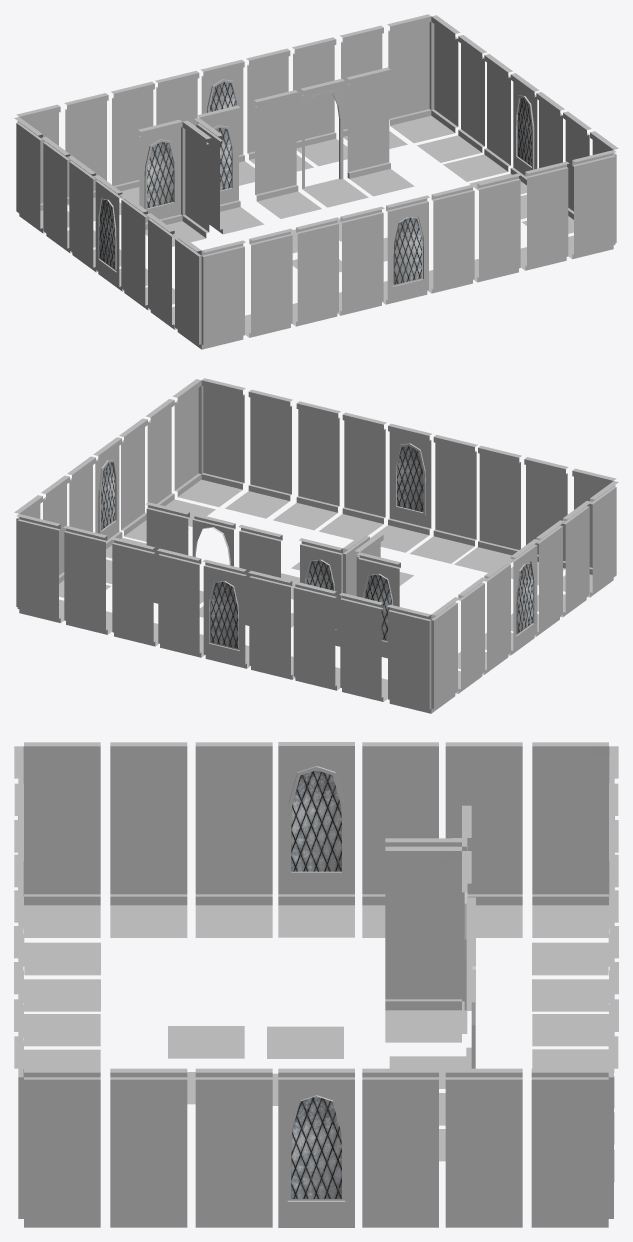
File: Tile.fbx
The picture shows the model from 3 angles, top to bottom: view 1: azimuth 30°, elevation 25°; view 2: azimuth 150°, elevation 25°; view 3: azimuth 270°, elevation 25°; orthographic projection. The views are drawn at different scales.
Visible parts, largest first — view 1: Wall Tile Coner 1, Wall Tile Coner 003, Between_Room_ Window _Tile_Left, Wall Tile Coner 004, Door_tile_003, Door_tile_1, Wall Tile 038, Wall Tile 039, Wall Tile 037, Wall Tile 040, Wall Tile 041, Wall Tile 042 (+30 smaller); view 2: Wall Tile Coner 004, Wall Tile Coner 002, Wall Tile Coner 1, Window Tile 006, Wall Tile 037, Wall Tile 039, Wall Tile 038, Wall Tile 040, Wall Tile 042, Window Tile 004, Wall Tile 033, Wall Tile 029 (+29 smaller); view 3: Between_Room_ Window _Tile_Left001, Wall Tile Coner 1, Wall Tile Coner 004, Wall Tile Coner 002, Wall Tile Coner 003, Wall Tile 043, Wall Tile 044, Window Tile 005, Wall Tile 6, Wall Tile 036, Wall Tile 045, Window Tile 2 (+24 smaller).
Part boxes in pixels (x1=…): Wall Tile Coner 1: x1=387, y1=14, x2=460, y2=132; Wall Tile Coner 003: x1=173, y1=233, x2=245, y2=349; Between_Room_ Window _Tile_Left: x1=138, y1=119, x2=210, y2=237; Wall Tile Coner 004: x1=572, y1=131, x2=618, y2=259; Door_tile_003: x1=346, y1=67, x2=390, y2=178; Door_tile_1: x1=254, y1=90, x2=298, y2=201; Wall Tile 038: x1=431, y1=184, x2=475, y2=293; Wall Tile 039: x1=477, y1=173, x2=521, y2=282; Wall Tile 037: x1=525, y1=161, x2=569, y2=270; Wall Tile 040: x1=340, y1=206, x2=384, y2=315; Wall Tile 041: x1=249, y1=228, x2=293, y2=337; Wall Tile 042: x1=296, y1=217, x2=339, y2=326; Wall Tile Coner 004: x1=173, y1=378, x2=245, y2=496; Wall Tile Coner 002: x1=387, y1=597, x2=459, y2=713; Wall Tile Coner 1: x1=14, y1=495, x2=60, y2=622; Window Tile 006: x1=388, y1=423, x2=431, y2=535; Wall Tile 037: x1=248, y1=389, x2=292, y2=500; Wall Tile 039: x1=296, y1=401, x2=340, y2=512; Wall Tile 038: x1=342, y1=412, x2=386, y2=523; Wall Tile 040: x1=433, y1=434, x2=477, y2=546; Wall Tile 042: x1=478, y1=445, x2=521, y2=555; Window Tile 004: x1=203, y1=559, x2=246, y2=668; Wall Tile 033: x1=293, y1=581, x2=336, y2=690; Wall Tile 029: x1=157, y1=548, x2=201, y2=657; Between_Room_ Window _Tile_Left001: x1=385, y1=847, x2=471, y2=1033; Wall Tile Coner 1: x1=531, y1=1036, x2=618, y2=1227; Wall Tile Coner 004: x1=14, y1=1036, x2=100, y2=1227; Wall Tile Coner 002: x1=532, y1=742, x2=618, y2=928; Wall Tile Coner 003: x1=14, y1=742, x2=100, y2=928; Wall Tile 043: x1=195, y1=742, x2=272, y2=905; Wall Tile 044: x1=110, y1=742, x2=187, y2=905; Window Tile 005: x1=278, y1=742, x2=354, y2=905; Wall Tile 6: x1=445, y1=1068, x2=522, y2=1227; Wall Tile 036: x1=195, y1=1068, x2=272, y2=1227; Wall Tile 045: x1=110, y1=1068, x2=187, y2=1227; Window Tile 2: x1=278, y1=1068, x2=354, y2=1227.
Size of the model in its own units: 802 by 620 by 180.
